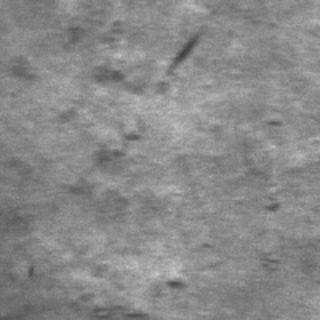rolled pit: (50, 20, 130, 156), (58, 117, 148, 209), (72, 261, 188, 317), (86, 32, 168, 96)
